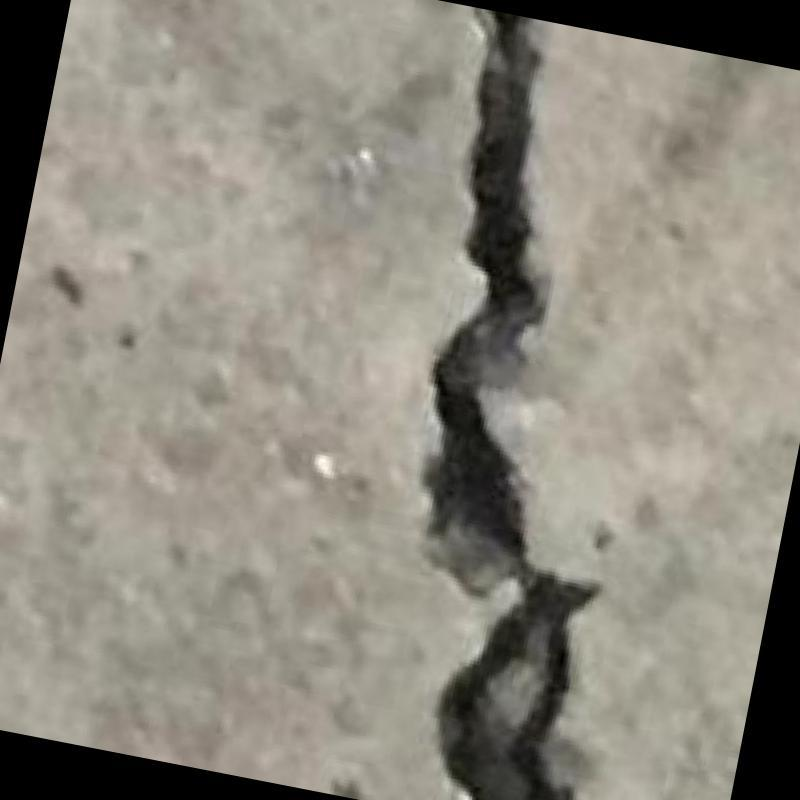pothole: (428, 7, 598, 800)
